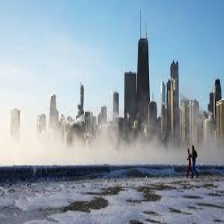smoke: (6, 126, 176, 161)
